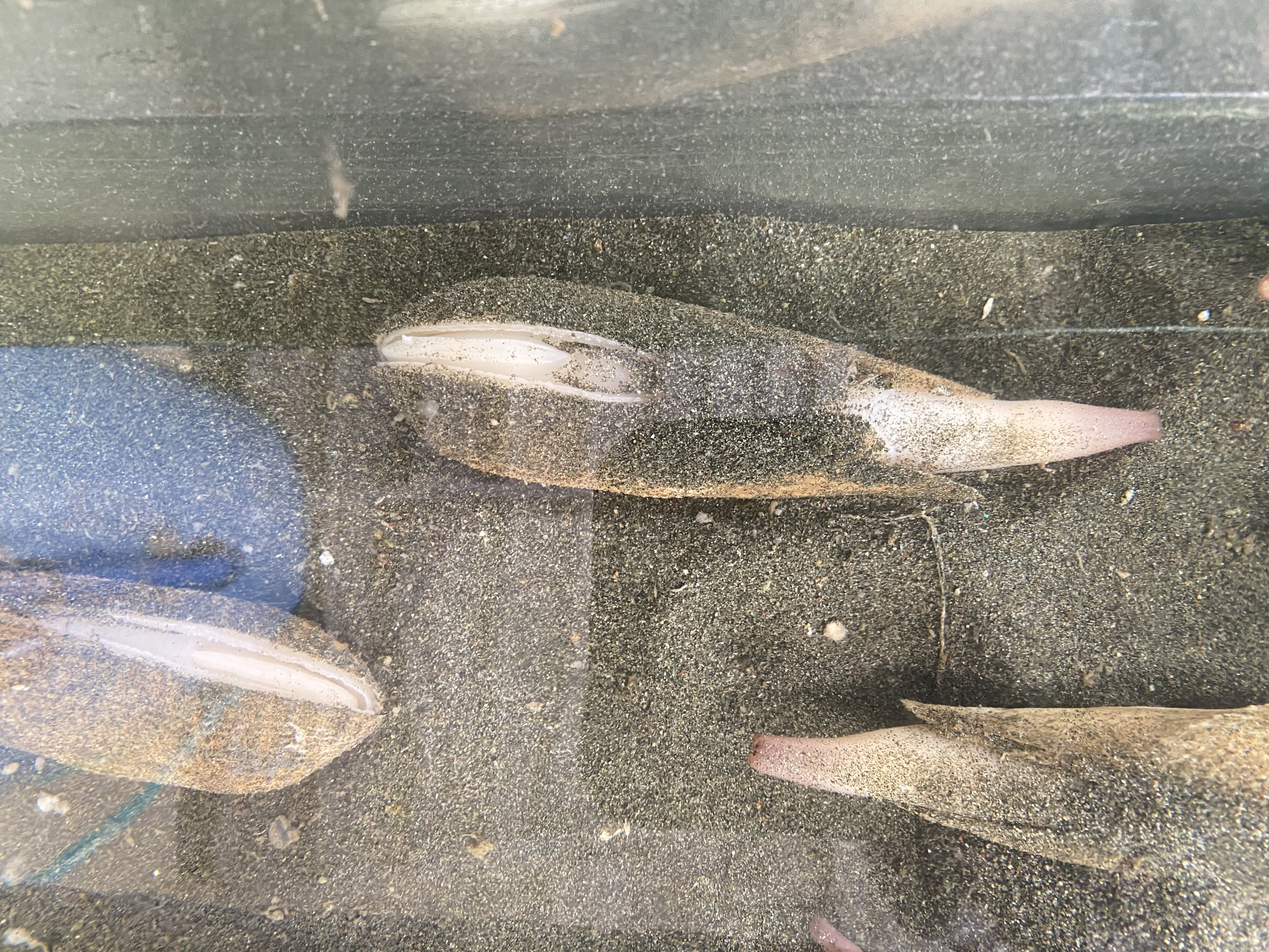Healthy: (374, 277, 1160, 501), (751, 702, 1269, 881)
